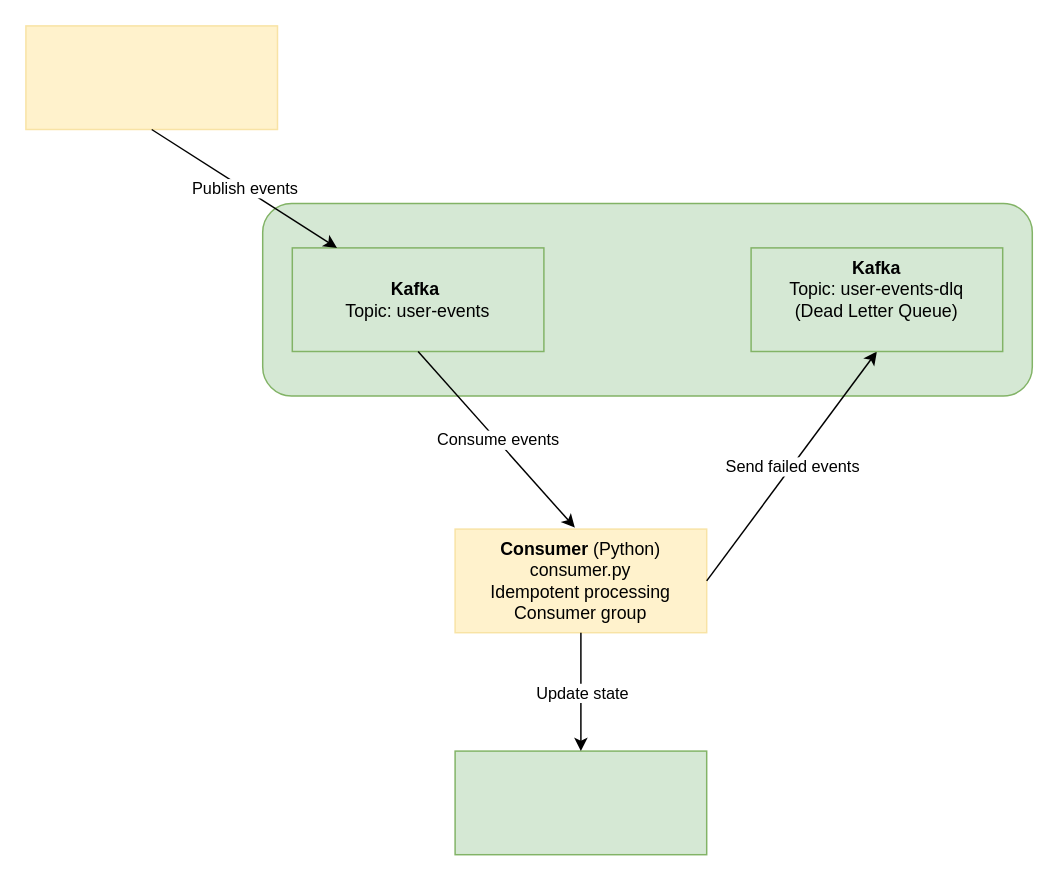
Some shapes in this 1058 by 881 pixel diagram are drawn without their labels. Here are the shapes that lost their labels. From the top down, the box of each, then its label:
(24, 24, 278, 130): Producer (Python) producer.py Generates user events
(454, 750, 707, 855): Redis Derived state Counters and aggregates
